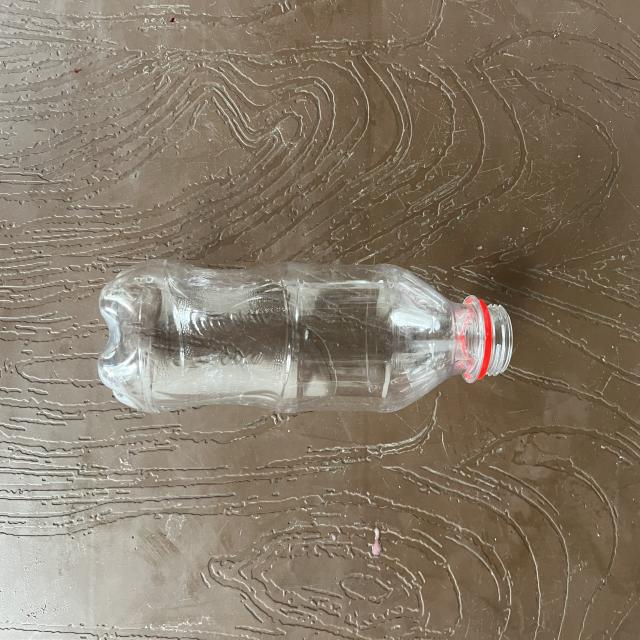PET_With_Cap: (96, 257, 516, 424)
